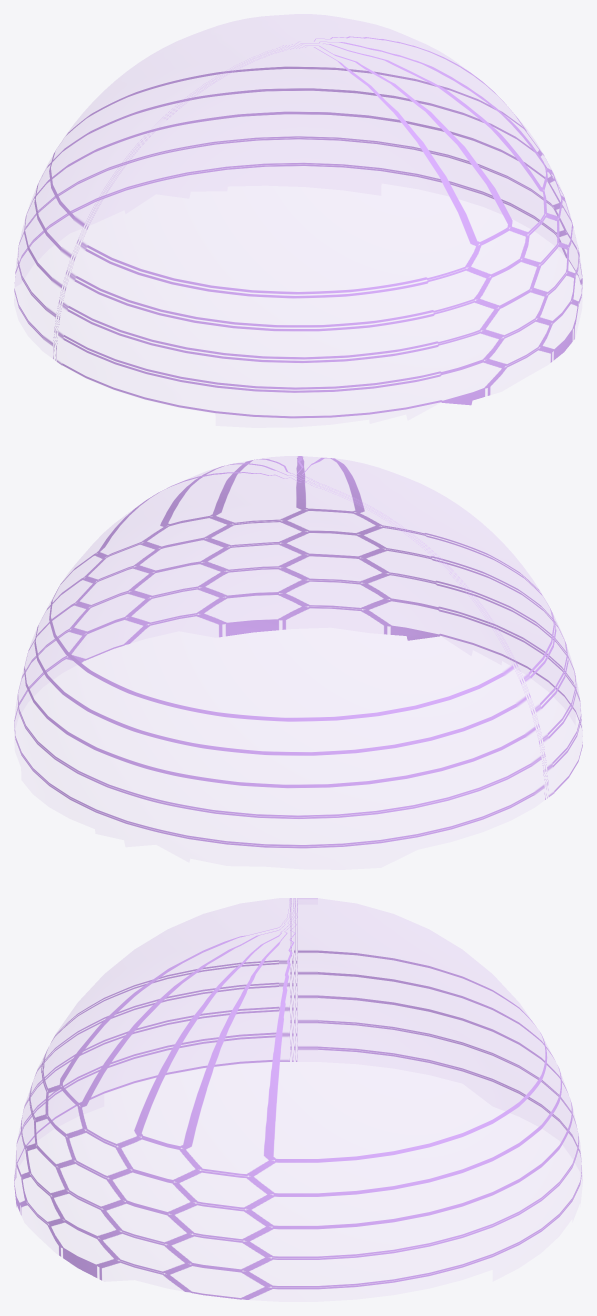
Rendered from fx_dome_cosmic.glb.
The picture shows the model from 3 angles, top to bottom: view 1: azimuth 30°, elevation 25°; view 2: azimuth 150°, elevation 25°; view 3: azimuth 270°, elevation 25°; orthographic projection.
Visible parts, largest first — view 1: fx_dome_cosmic; view 2: fx_dome_cosmic; view 3: fx_dome_cosmic.
Boxes of the visible parts, bbox=[...] form: fx_dome_cosmic: bbox=[14, 14, 582, 418]; fx_dome_cosmic: bbox=[14, 456, 582, 848]; fx_dome_cosmic: bbox=[14, 898, 582, 1299].
Bounding box in the file's own units: 2 × 1.05 × 2.
1 material, 1 textured.
